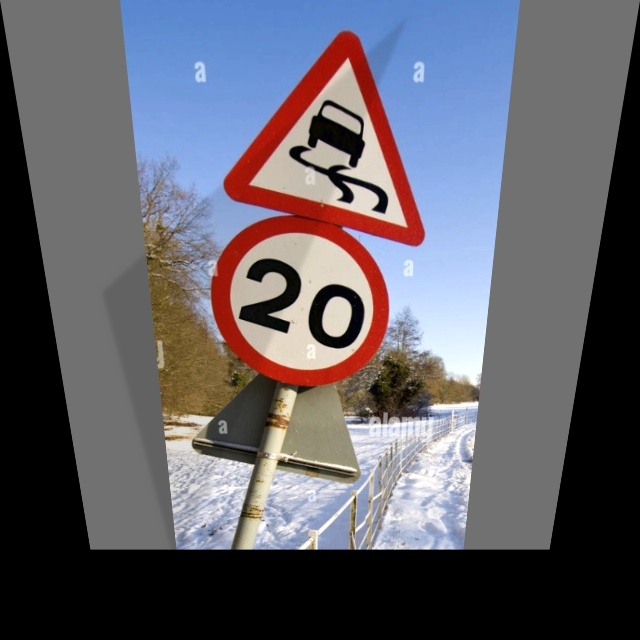Slippery_Road: (222, 32, 433, 233)
